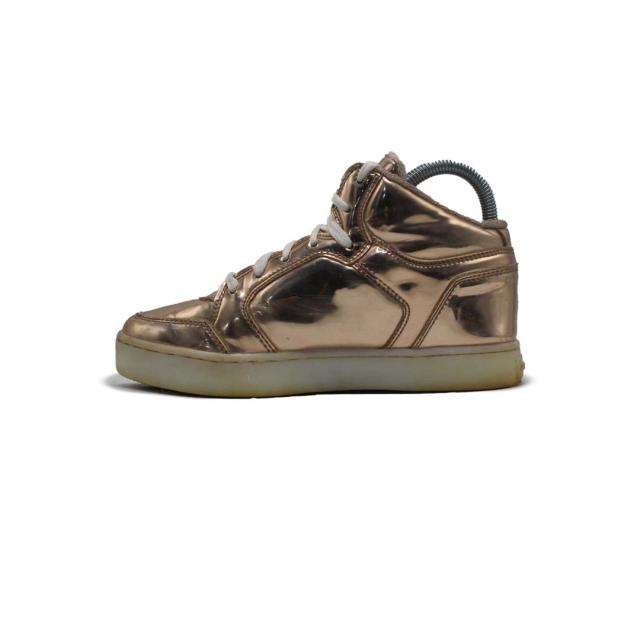heel: (484, 198, 524, 346)
midsole: (116, 334, 526, 398)
uppersole: (108, 142, 479, 352)
